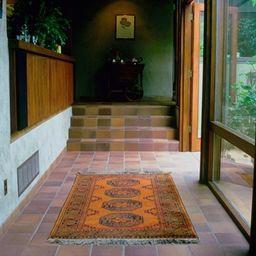Escaleras: (73, 106, 179, 151)
